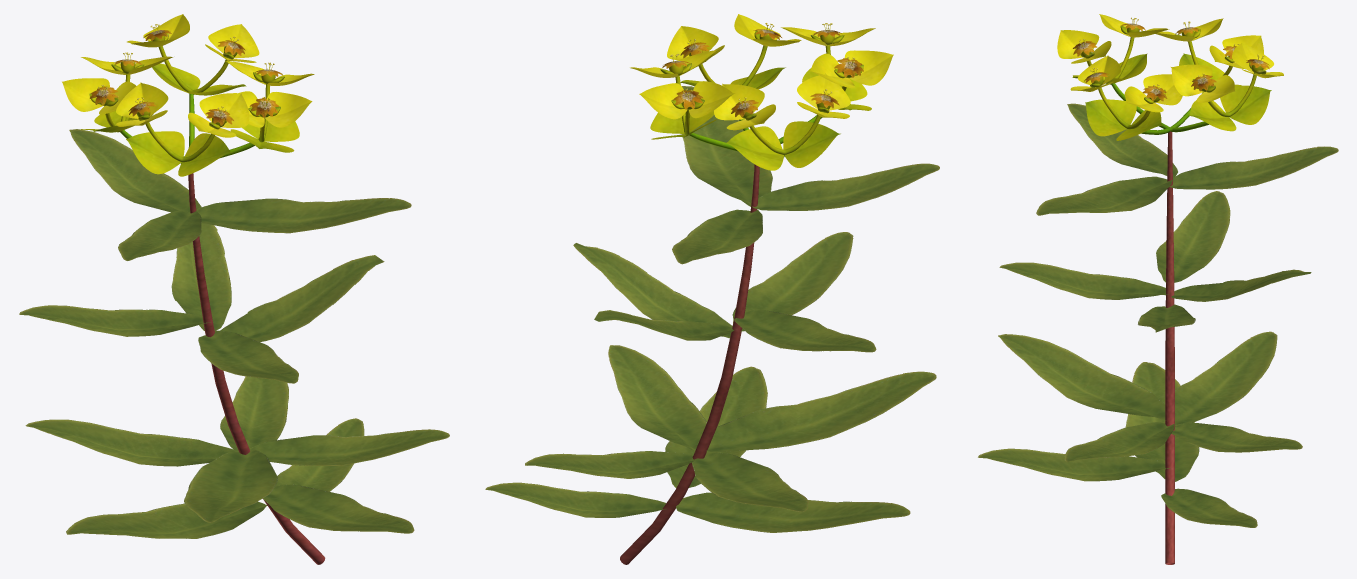
Rendered from EuforbiaPianta2.glb.
The picture shows the model from 3 angles, left to right: view 1: azimuth 30°, elevation 25°; view 2: azimuth 150°, elevation 25°; view 3: azimuth 270°, elevation 25°; orthographic projection. The views are drawn at different scales.
Visible parts, largest first — view 1: FogliaEuforbia, FogliaEuforbia.009, FogliaEuforbia.001, FogliaEuforbia.012, FogliaEuforbia.004, FogliaEuforbia.002, FogliaEuforbia.010, FogliaEuforbia.011, FogliaEuforbia.005, FogliaEuforbia.006, FogliaEuforbia.008, FogliaEuforbia.007 (+13 smaller); view 2: FogliaEuforbia.012, FogliaEuforbia.002, FogliaEuforbia.011, FogliaEuforbia.007, FogliaEuforbia.003, FogliaEuforbia.001, FogliaEuforbia.009, FogliaEuforbia, EuphorbiaOrigin, FogliaEuforbia.006, FogliaEuforbia.013, FogliaEuforbia.008 (+13 smaller); view 3: FogliaEuforbia.012, FogliaEuforbia.009, FogliaEuforbia.006, FogliaEuforbia.004, FogliaEuforbia.010, EuphorbiaOrigin, FogliaEuforbia.007, FogliaEuforbia, FogliaEuforbia.002, FogliaEuforbia.008, FogliaEuforbia.003, FogliaEuforbia.011 (+16 smaller).
Part boxes in pixels (x1=…): FogliaEuforbia: x1=196, y1=198, x2=411, y2=233; FogliaEuforbia.009: x1=25, y1=419, x2=238, y2=466; FogliaEuforbia.001: x1=220, y1=255, x2=384, y2=341; FogliaEuforbia.012: x1=184, y1=449, x2=277, y2=522; FogliaEuforbia.004: x1=69, y1=129, x2=201, y2=212; FogliaEuforbia.002: x1=249, y1=429, x2=449, y2=465; FogliaEuforbia.010: x1=263, y1=484, x2=414, y2=533; FogliaEuforbia.011: x1=66, y1=501, x2=268, y2=538; FogliaEuforbia.005: x1=171, y1=223, x2=231, y2=330; FogliaEuforbia.006: x1=19, y1=305, x2=210, y2=336; FogliaEuforbia.008: x1=220, y1=376, x2=288, y2=451; FogliaEuforbia.007: x1=198, y1=330, x2=298, y2=383; FogliaEuforbia.012: x1=698, y1=371, x2=936, y2=452; FogliaEuforbia.002: x1=608, y1=345, x2=706, y2=451; FogliaEuforbia.011: x1=676, y1=492, x2=910, y2=532; FogliaEuforbia.007: x1=732, y1=232, x2=853, y2=331; FogliaEuforbia.003: x1=752, y1=163, x2=939, y2=210; FogliaEuforbia.001: x1=573, y1=243, x2=732, y2=338; FogliaEuforbia.009: x1=692, y1=452, x2=808, y2=511; FogliaEuforbia: x1=681, y1=86, x2=772, y2=206; EuphorbiaOrigin: x1=620, y1=164, x2=759, y2=564; FogliaEuforbia.006: x1=734, y1=310, x2=876, y2=352; FogliaEuforbia.013: x1=485, y1=482, x2=666, y2=517; FogliaEuforbia.008: x1=525, y1=451, x2=698, y2=478; FogliaEuforbia.012: x1=998, y1=334, x2=1165, y2=420; FogliaEuforbia.009: x1=1164, y1=331, x2=1277, y2=426; FogliaEuforbia.006: x1=1156, y1=191, x2=1230, y2=282; FogliaEuforbia.004: x1=1169, y1=146, x2=1338, y2=189; FogliaEuforbia.010: x1=978, y1=448, x2=1170, y2=481; EuphorbiaOrigin: x1=1165, y1=131, x2=1174, y2=564; FogliaEuforbia.007: x1=999, y1=262, x2=1168, y2=299; FogliaEuforbia: x1=1036, y1=176, x2=1173, y2=215; FogliaEuforbia.002: x1=1064, y1=422, x2=1174, y2=462; FogliaEuforbia.008: x1=1171, y1=422, x2=1302, y2=452; FogliaEuforbia.003: x1=1067, y1=103, x2=1177, y2=178; FogliaEuforbia.011: x1=1125, y1=362, x2=1199, y2=481.
Size of the model in its own units: 0.3356 by 0.4619 by 0.3344.
4 materials, 4 textured.
